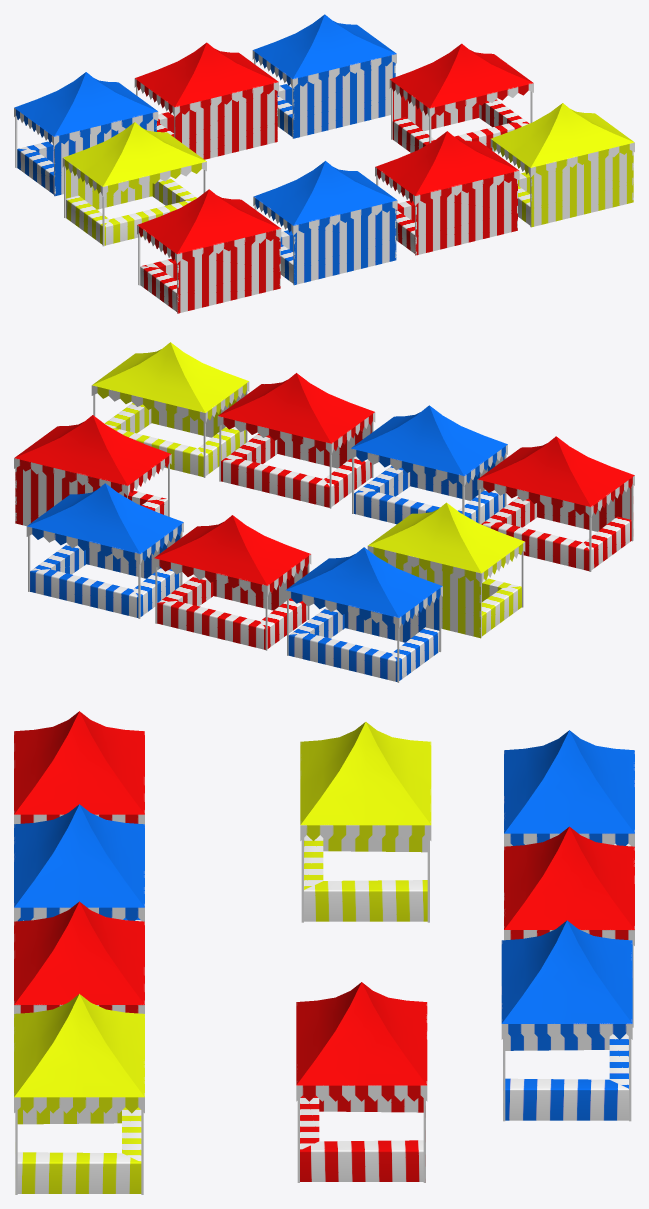
File: Booth_Group.fbx
3 renders of one model, top to bottom at view 1: azimuth 30°, elevation 25°; view 2: azimuth 150°, elevation 25°; view 3: azimuth 270°, elevation 25°, orthographic. The views are drawn at different scales.
Visible parts, largest first — view 1: Booth_Group; view 2: Booth_Group; view 3: Booth_Group.
Boxes of the visible parts, x1=… form: Booth_Group: x1=14, y1=14, x2=634, y2=313; Booth_Group: x1=14, y1=342, x2=634, y2=682; Booth_Group: x1=14, y1=711, x2=634, y2=1194.
Size of the model in its own units: 2308 by 478 by 1654.
